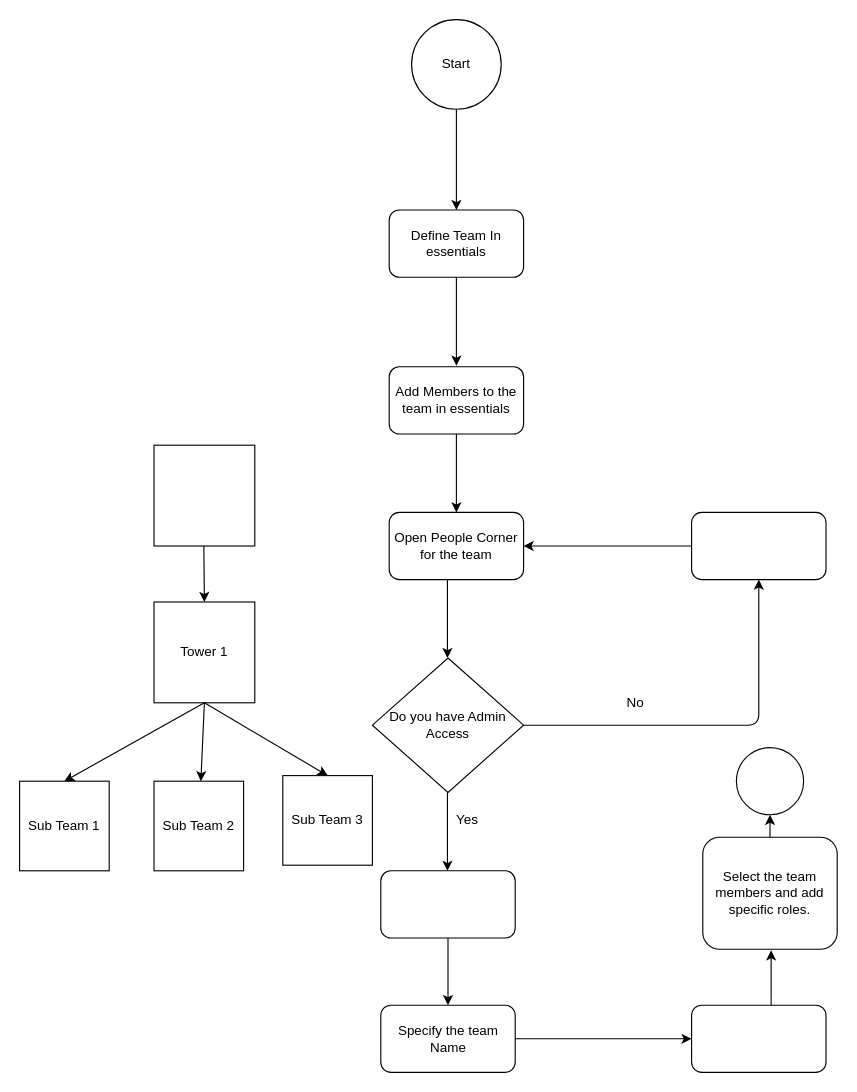
Image size: 857x1092. Some labels were removed from this diagram. The shapes that lost their labels are listed below. From the top down, each one's box as (x1, y1, x2, y2) in pixels, then its label:
(153, 444, 255, 546): Account Team
(690, 511, 826, 580): Get Admin Access to People Corner
(735, 746, 804, 815): End
(380, 870, 515, 938): Select the team under which you want to add a team
(690, 1004, 826, 1072): Add the members of the top team as members of the subteam
